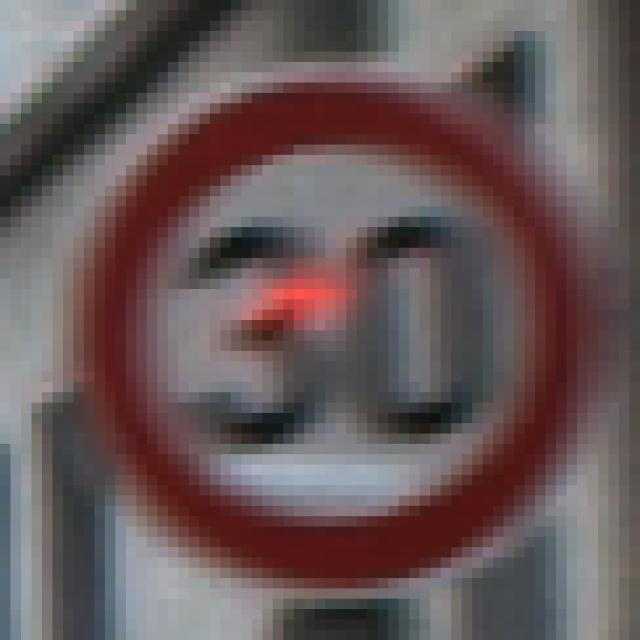Speed Limit -30-: (58, 46, 572, 573)
